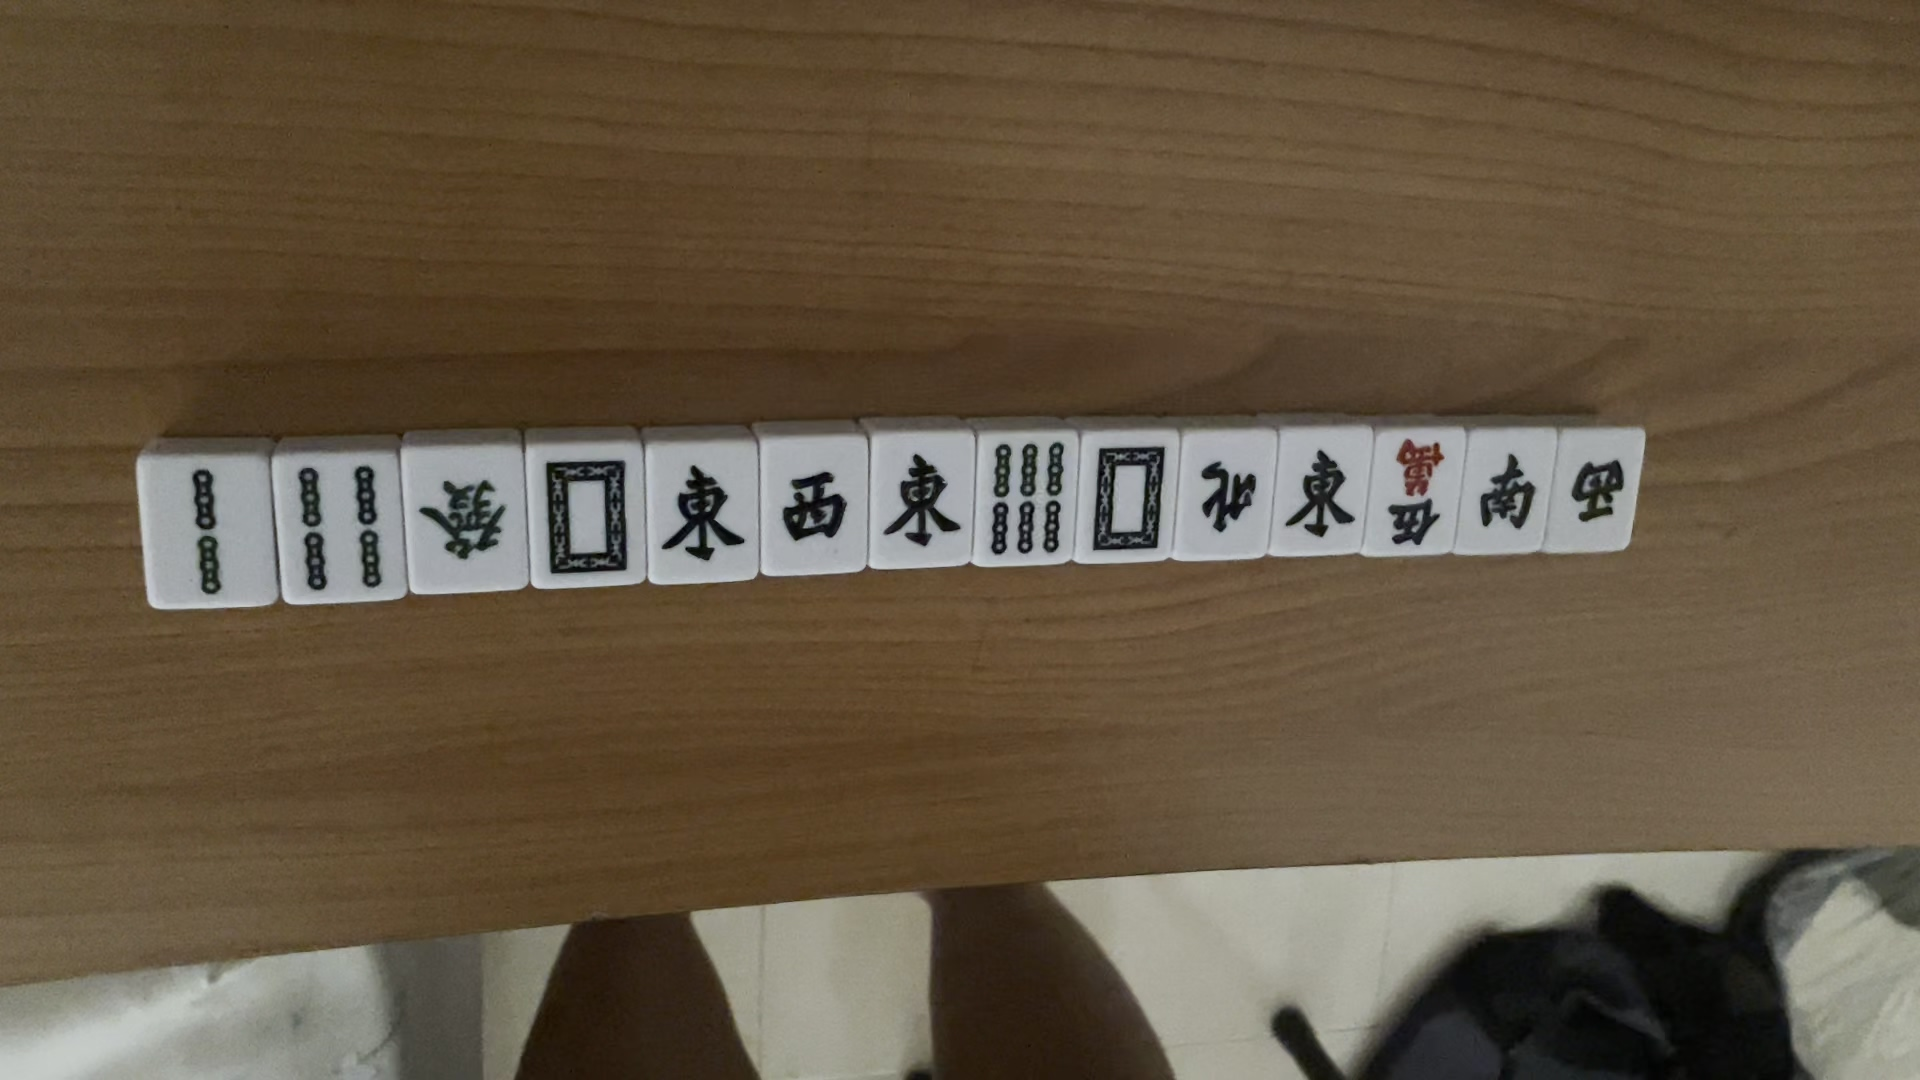b-2: (173, 467, 245, 602)
b-4: (286, 456, 391, 596)
b-6: (984, 437, 1070, 557)
c-5: (1380, 435, 1451, 550)
honors-east: (664, 462, 748, 575), (883, 450, 965, 556), (1283, 441, 1360, 547)
honors-green: (415, 467, 512, 563)
honors-north: (1187, 450, 1262, 535)
honors-south: (1465, 443, 1541, 535)
honors-west: (770, 469, 854, 544), (1565, 454, 1633, 531)
honors-white: (535, 453, 633, 580), (1090, 443, 1170, 554)
